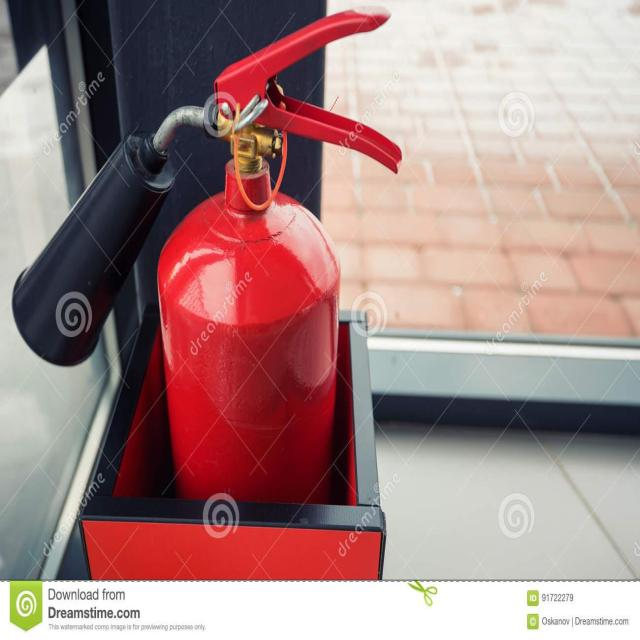fire_extinguisher: (10, 1, 407, 582)
